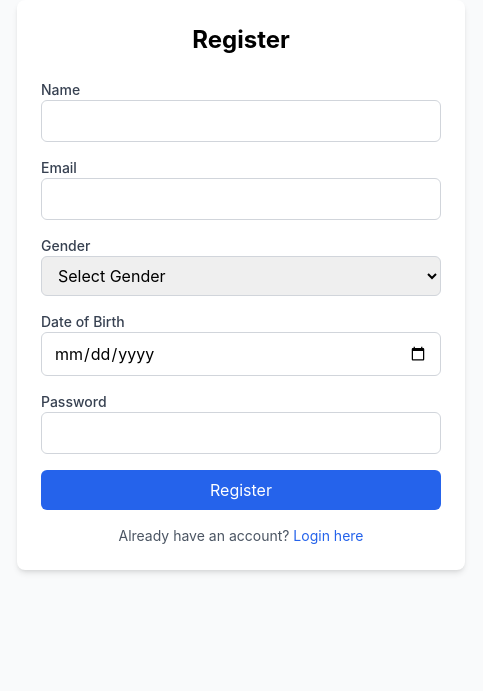
it: Register Component › form validation › shows error when name is missing
Click the button "Register" at (241, 490), box [41,470,441,510]
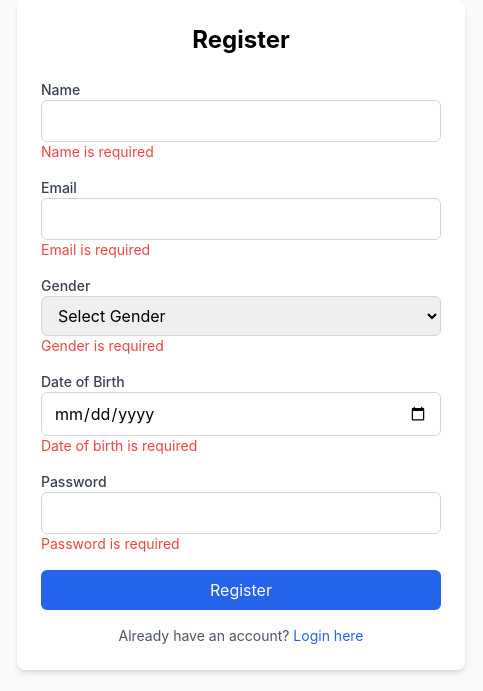
Result: the text "Name is required" is shown at [41,143,154,160]
